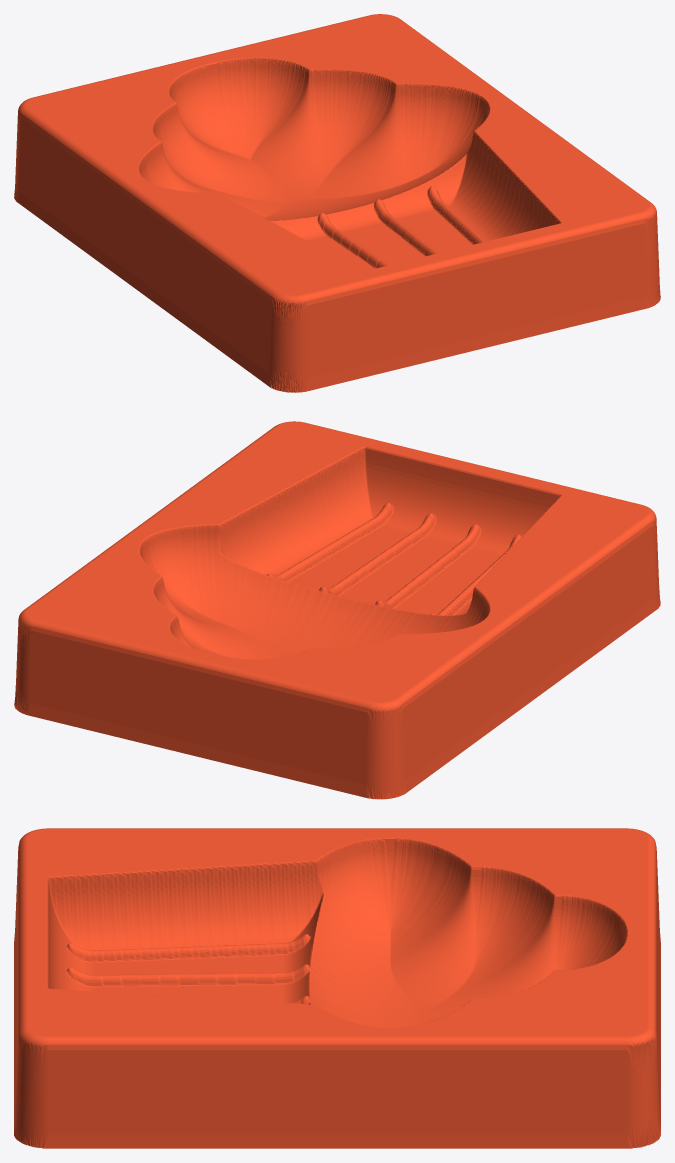
The model's file is mold.glb.
The picture shows the model from 3 angles, top to bottom: view 1: azimuth 30°, elevation 25°; view 2: azimuth 150°, elevation 25°; view 3: azimuth 270°, elevation 25°; orthographic projection. The views are drawn at different scales.
Parts seen in each view (by area): view 1: geometry_0; view 2: geometry_0; view 3: geometry_0.
Part boxes in pixels (left/top/right/bottom): geometry_0: left=14, top=14, right=660, bottom=392; geometry_0: left=14, top=421, right=660, bottom=799; geometry_0: left=14, top=828, right=660, bottom=1148.
Bounding box in the file's own units: 0.1366 × 0.031 × 0.1709.
